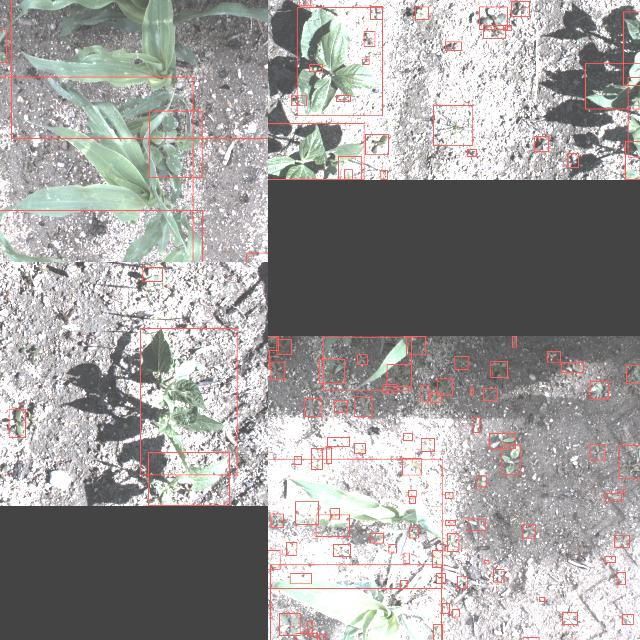crop: (0, 76, 192, 262), (11, 0, 268, 137), (268, 459, 441, 589), (140, 328, 236, 476), (269, 565, 441, 640), (0, 210, 201, 262), (296, 6, 382, 116), (323, 336, 411, 389), (148, 452, 228, 506), (584, 63, 640, 109), (622, 11, 640, 85), (624, 142, 640, 180), (344, 170, 352, 180)
weed: (268, 124, 363, 180), (148, 111, 202, 177), (433, 106, 472, 146), (315, 515, 349, 537), (618, 445, 640, 478), (478, 7, 506, 30), (318, 359, 344, 383), (500, 444, 520, 474), (338, 156, 360, 180), (386, 364, 410, 386), (294, 502, 318, 524), (278, 614, 300, 636), (364, 135, 388, 155), (8, 409, 24, 437), (488, 434, 514, 448), (354, 396, 372, 416), (588, 381, 608, 399), (303, 398, 321, 416), (406, 336, 424, 354), (402, 459, 421, 475), (436, 378, 452, 396), (142, 267, 162, 281), (489, 361, 506, 377), (626, 364, 640, 383), (483, 26, 505, 38), (511, 2, 529, 16), (310, 448, 322, 469), (270, 361, 284, 379), (534, 136, 548, 152), (590, 444, 604, 460), (276, 338, 290, 354), (268, 550, 279, 570), (561, 362, 583, 372), (446, 534, 458, 552), (467, 519, 485, 531), (332, 544, 350, 556), (290, 574, 310, 584), (327, 438, 349, 447), (414, 6, 428, 20), (562, 612, 576, 626), (432, 550, 442, 568), (566, 154, 578, 168), (370, 6, 382, 20), (614, 535, 628, 547), (522, 524, 534, 538), (483, 388, 497, 400), (454, 356, 468, 368), (420, 438, 434, 450), (419, 384, 428, 402), (290, 96, 306, 106), (546, 351, 560, 362), (295, 633, 316, 640), (445, 41, 461, 50), (334, 400, 346, 412), (270, 514, 282, 526), (364, 32, 374, 46), (286, 542, 296, 556), (432, 625, 441, 640), (492, 570, 503, 582), (605, 493, 621, 501), (472, 416, 480, 432), (382, 383, 396, 392), (268, 336, 277, 350), (456, 576, 466, 588), (370, 533, 382, 543), (308, 64, 322, 72), (354, 442, 364, 453), (622, 615, 632, 625), (430, 392, 440, 402), (476, 476, 486, 486), (357, 354, 367, 364), (329, 508, 339, 518), (408, 528, 418, 538), (616, 573, 624, 585), (335, 95, 349, 101), (306, 622, 312, 636), (436, 573, 444, 583), (388, 544, 396, 554), (403, 552, 409, 564), (326, 446, 330, 464), (402, 434, 412, 441), (466, 150, 476, 156), (380, 170, 386, 180), (604, 556, 614, 562), (445, 520, 455, 526), (442, 603, 448, 613), (399, 581, 406, 589), (299, 0, 310, 5), (444, 492, 452, 498), (408, 496, 414, 504), (407, 490, 415, 496), (294, 456, 300, 464), (502, 26, 512, 30), (512, 336, 516, 346), (362, 59, 368, 65), (452, 610, 458, 616), (318, 635, 325, 640), (538, 597, 544, 601), (469, 388, 473, 394), (484, 560, 488, 564), (622, 489, 624, 493), (268, 356, 269, 361)
